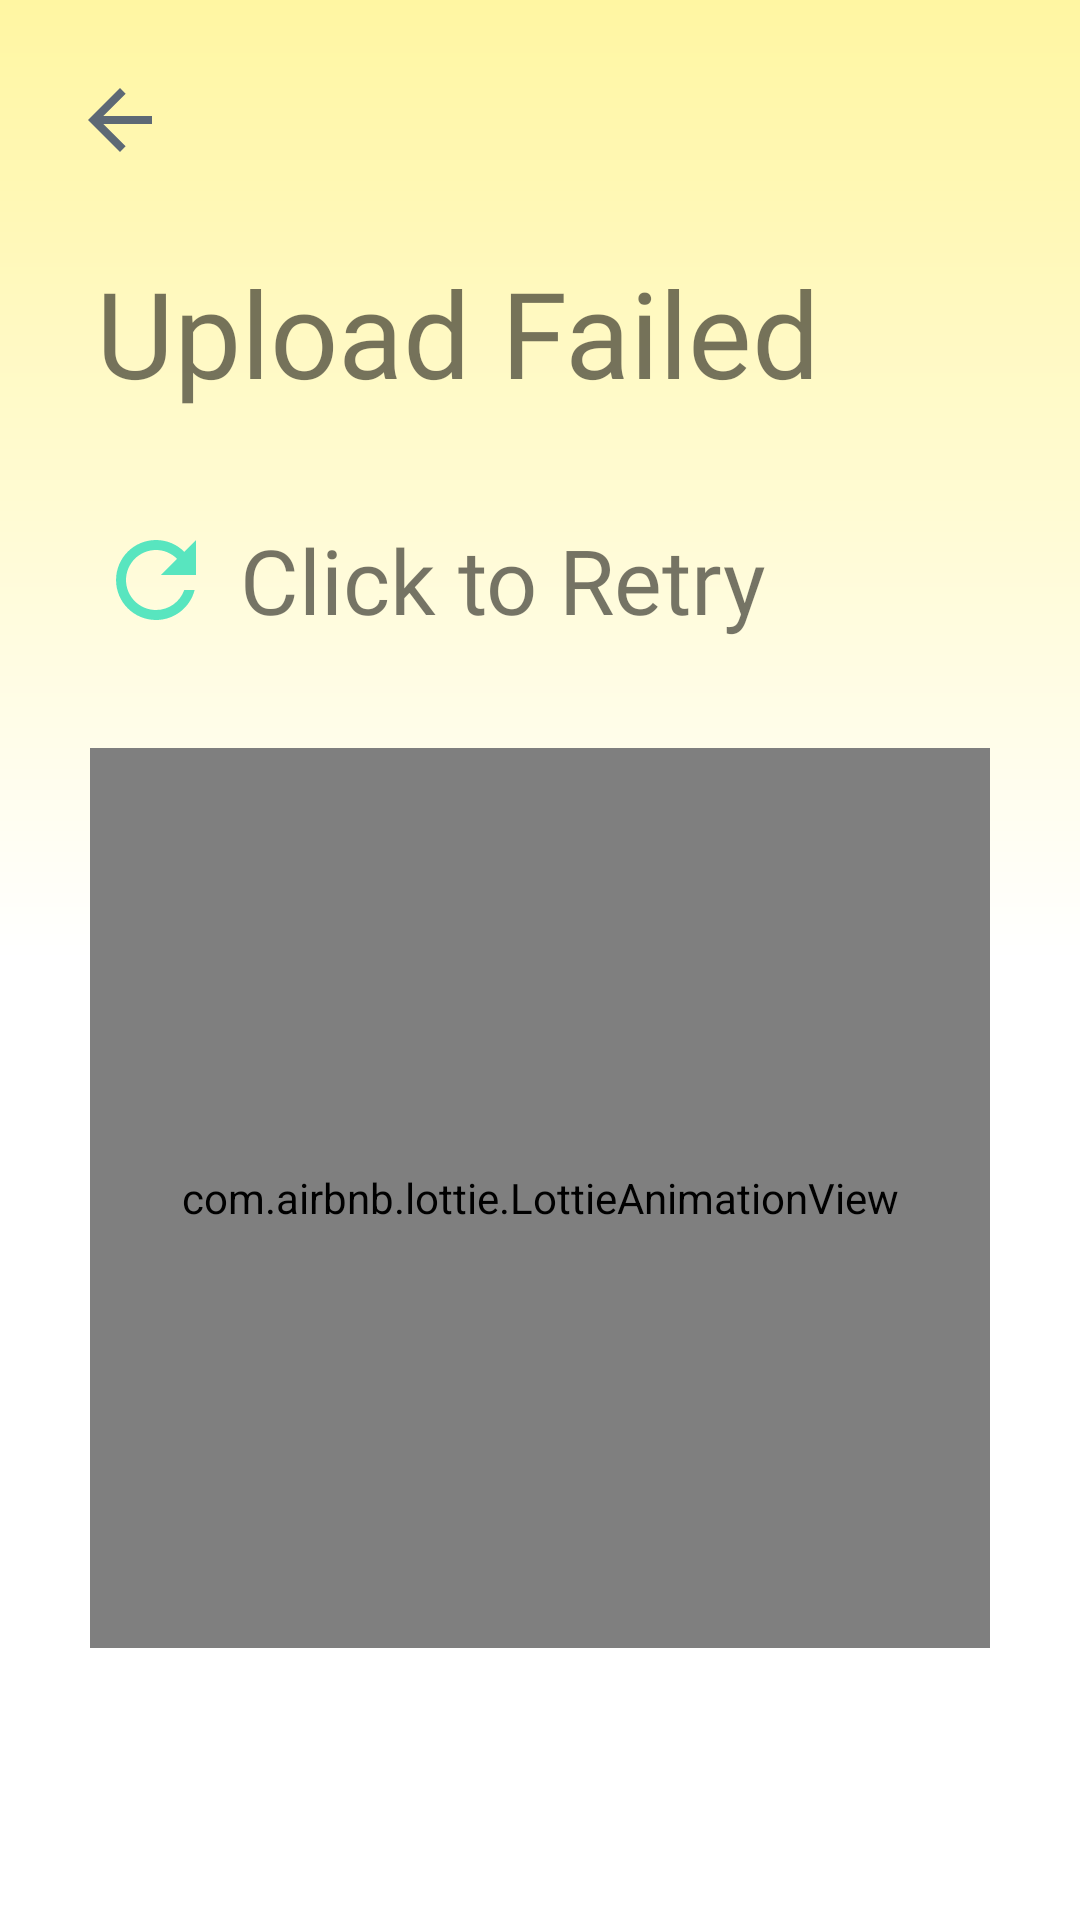

Named icons in this screenshot (1080px×1920px) and their centers, (x=x, y=y):
arrow back: (x=120, y=120)
refresh: (x=156, y=580)
